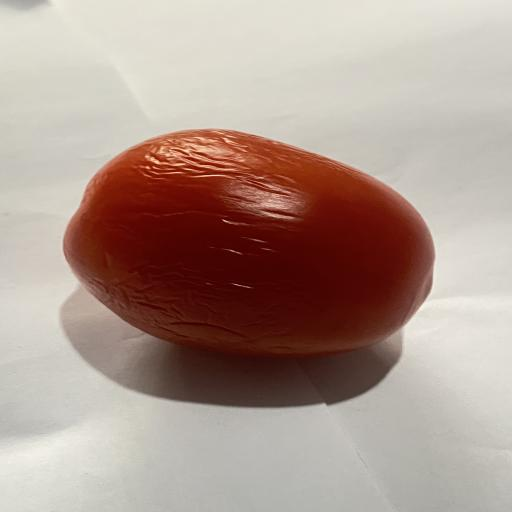spoiled: (63, 130, 434, 357)
